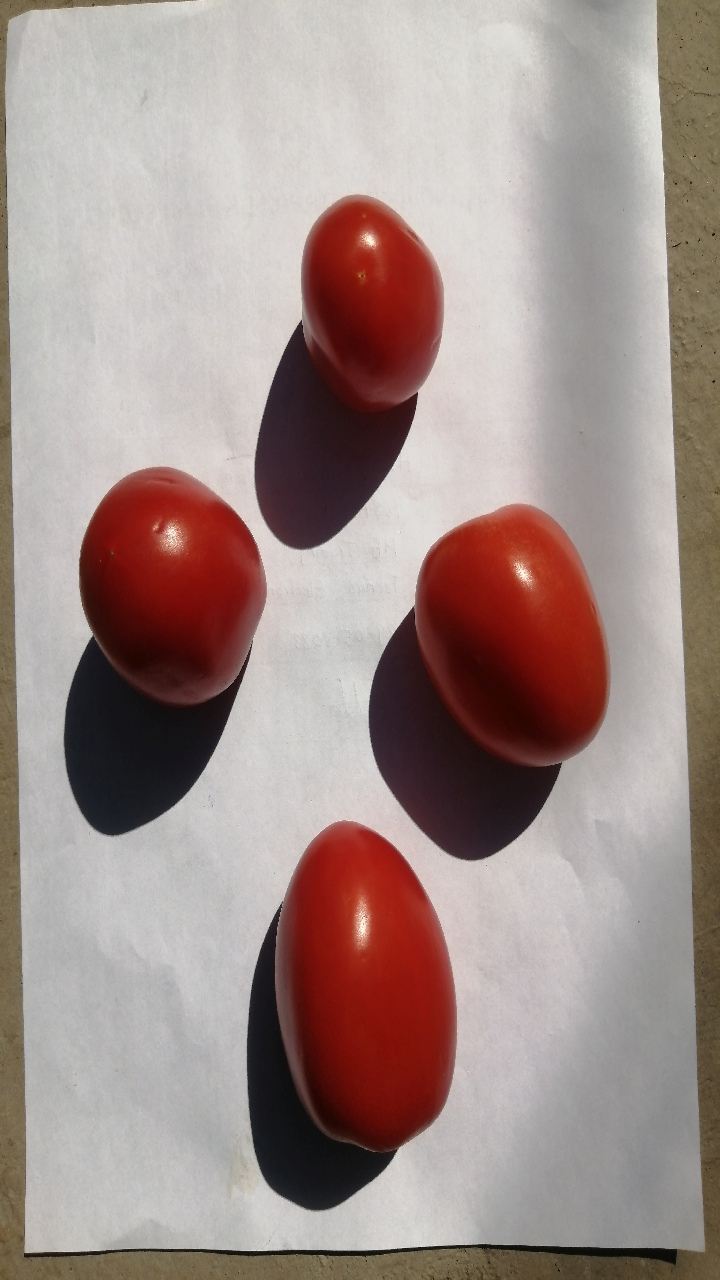tomateRojo: (243, 811, 481, 1166), (391, 491, 618, 774), (58, 448, 277, 728), (288, 183, 458, 423)
